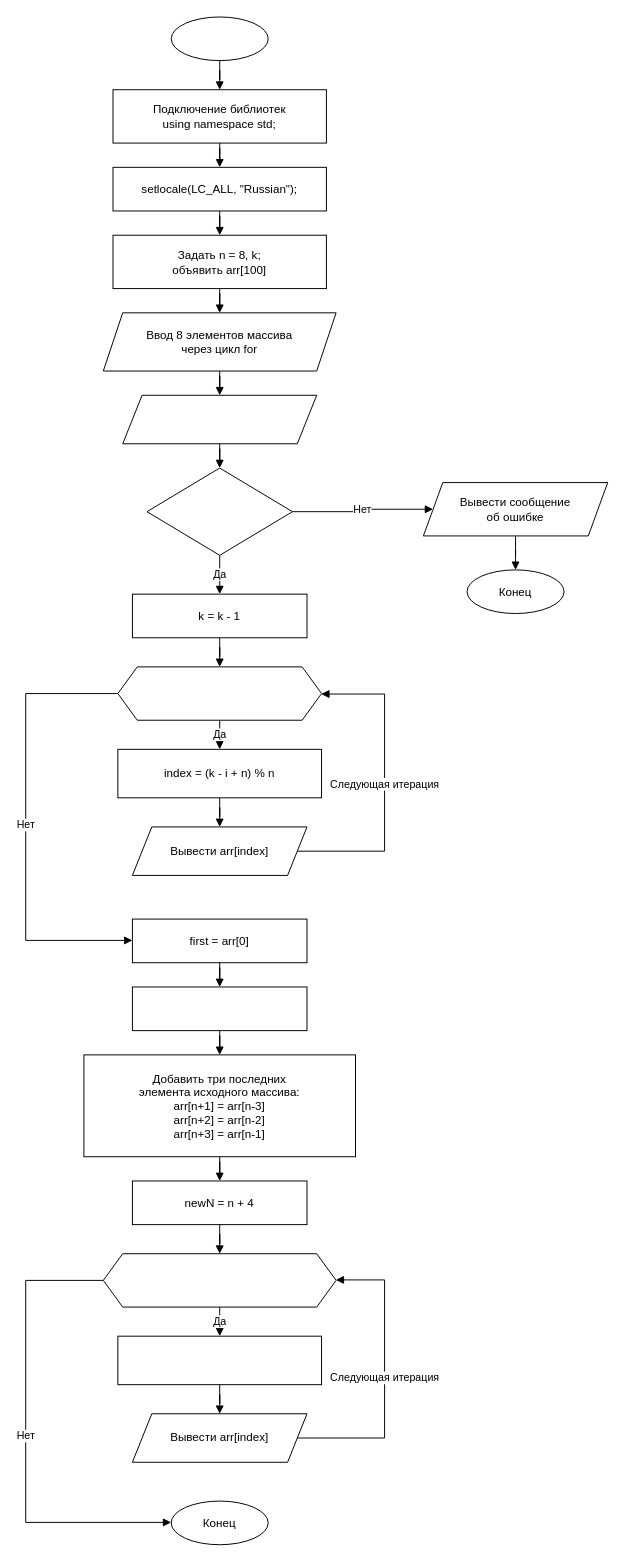
This 625x1562 diagram has some shape labels left out. Here are the shapes that lost their labels. From the top down, the box of each, then its label:
(170, 16, 268, 61): Начало
(122, 394, 317, 444): Ввод номера элемента K
(146, 467, 292, 555): 1 ≤ K ≤ n ?
(117, 666, 322, 720): for (i = 0; i < n; i++)
(131, 986, 307, 1031): arr[n] = first
(102, 1253, 336, 1307): for (i = 0; i < newN; i++)
(117, 1335, 322, 1385): index = (k + i) % newN
